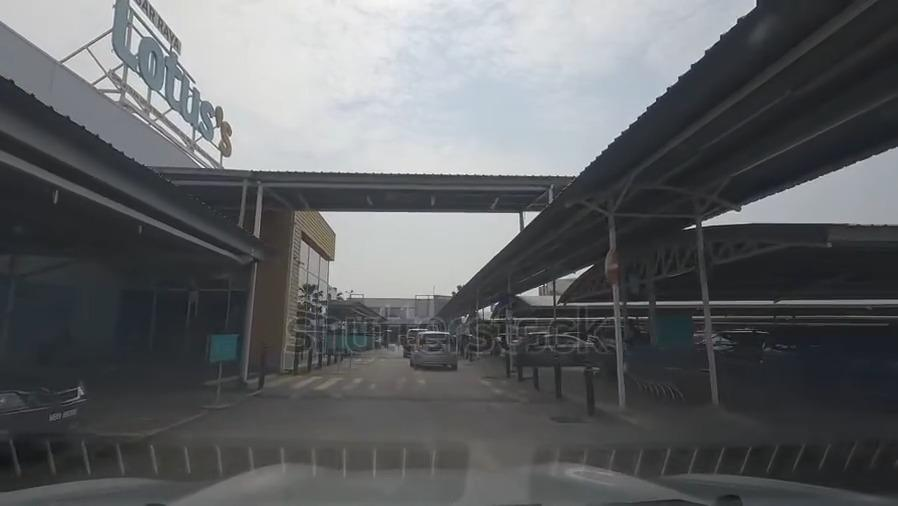car: (766, 325, 898, 397), (0, 362, 91, 441), (414, 328, 459, 371), (509, 333, 593, 356), (701, 327, 766, 356), (404, 324, 427, 355)
manhole: (550, 407, 588, 429)
pedestrian: (259, 367, 536, 399)
